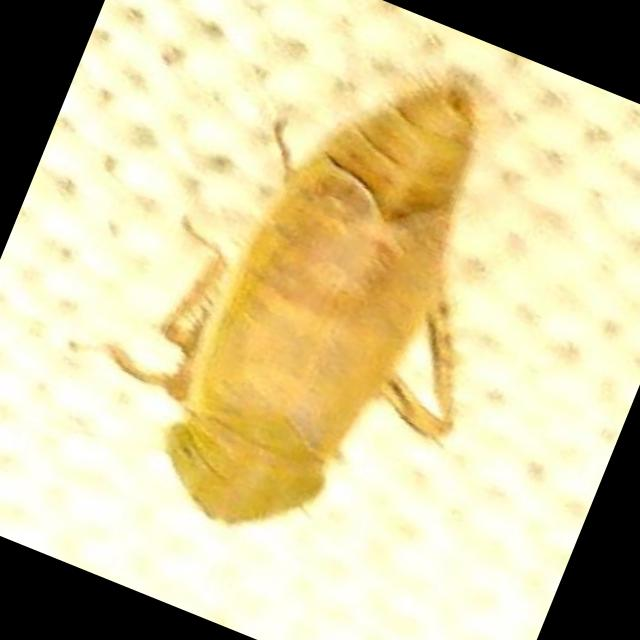green-leafhopper: (106, 15, 576, 596)
